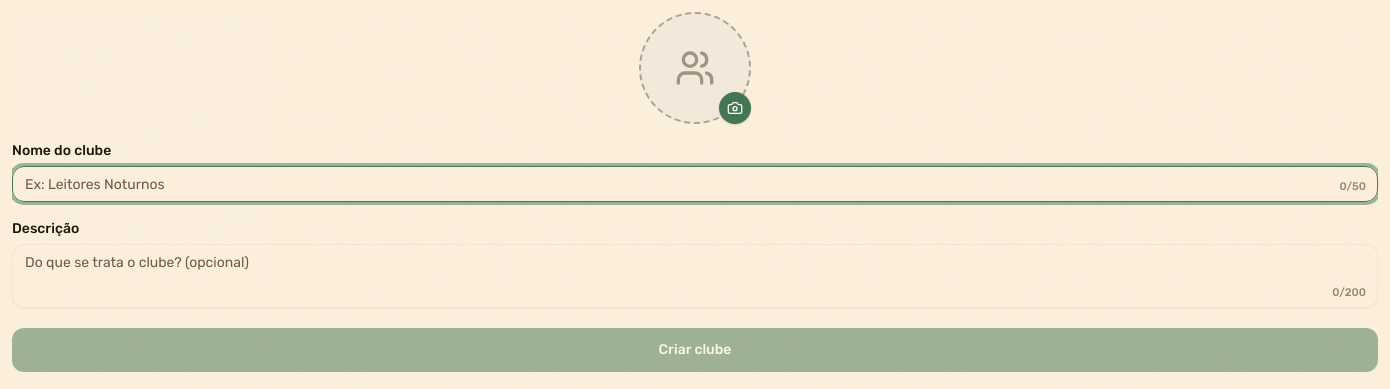
Test: CreateGroupForm › shows character counter for description
The width and height of the screenshot is (1390, 389).
Step 1. Type "Uma descrição" into the text box labelled "Descrição" → (695, 276), box [12,244,1378,308]
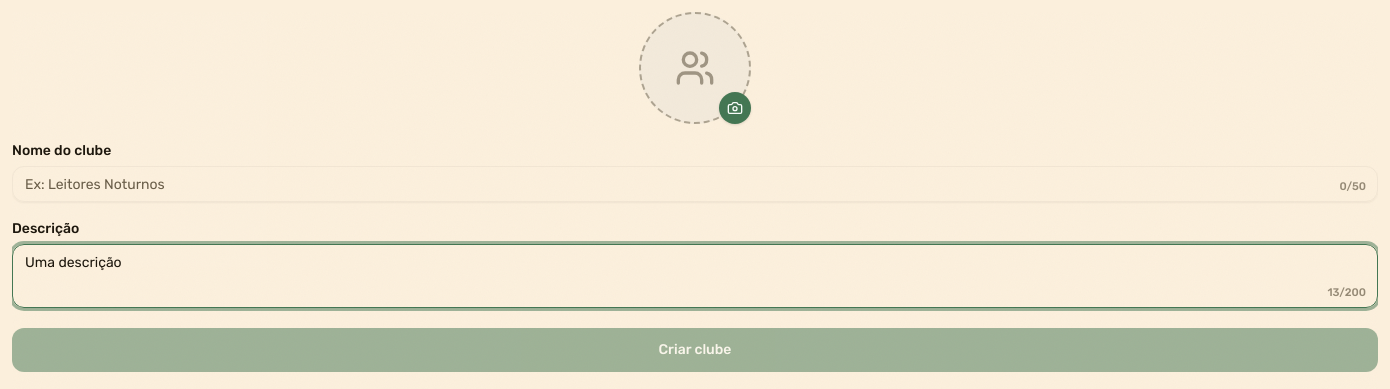
Expected: the text "13/200" is shown, [1327,286,1366,300]
